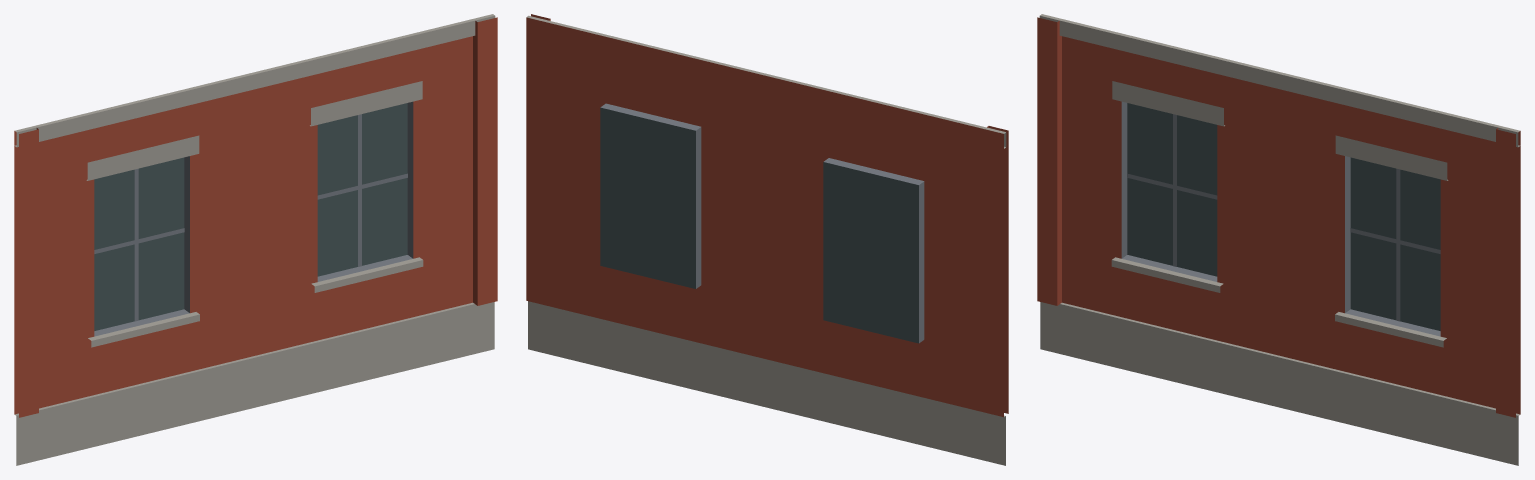
The picture shows the model from 3 angles, left to right: view 1: azimuth 30°, elevation 25°; view 2: azimuth 150°, elevation 25°; view 3: azimuth 330°, elevation 25°; orthographic projection.
Visible parts, largest first — view 1: a2013/700/base-w1; view 2: a2013/700/base-w1; view 3: a2013/700/base-w1.
Part boxes in pixels (box(x1,y1,x2,y2)): a2013/700/base-w1: box(14, 14, 497, 465); a2013/700/base-w1: box(526, 14, 1008, 465); a2013/700/base-w1: box(1037, 14, 1520, 465).
Size of the model in its own units: 6 by 4 by 0.22.
